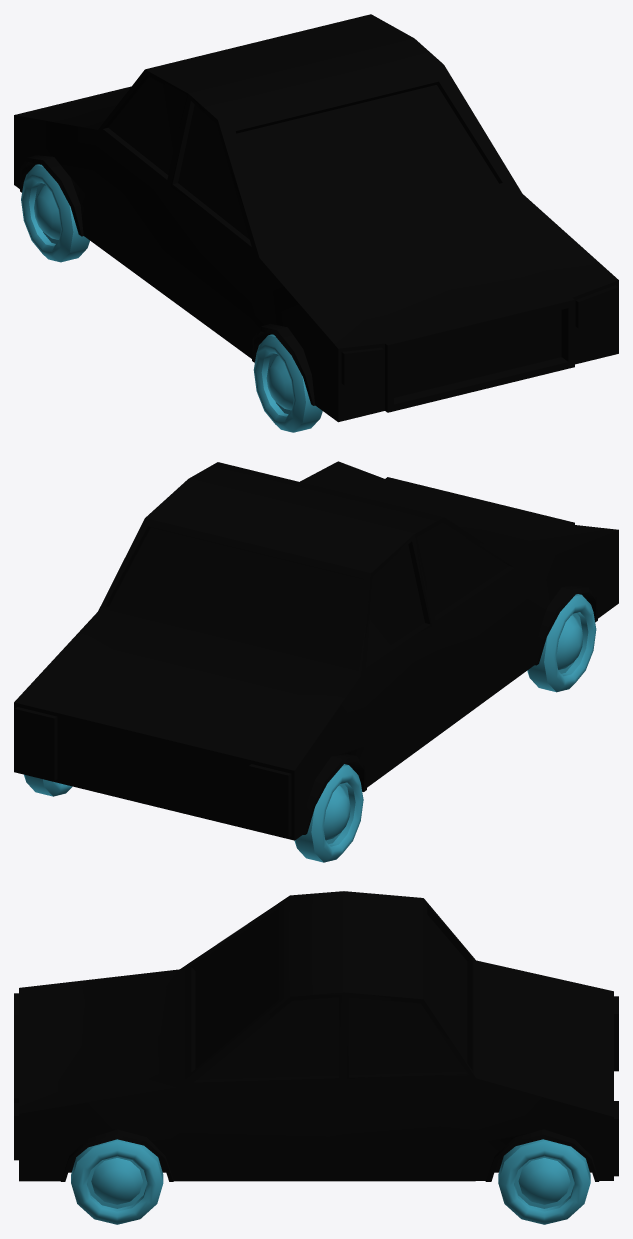
File: CarWheels Attached.FBX
3 renders of one model, top to bottom at view 1: azimuth 30°, elevation 25°; view 2: azimuth 150°, elevation 25°; view 3: azimuth 270°, elevation 25°, orthographic. The views are drawn at different scales.
Parts seen in each view (by area): view 1: Car_low; view 2: Car_low; view 3: Car_low.
Part boxes in pixels (x1,y1,x2,y2): Car_low: (14, 14, 618, 432); Car_low: (14, 461, 618, 862); Car_low: (14, 891, 618, 1224).
Size of the model in its own units: 21.67 by 15.95 by 40.02.
